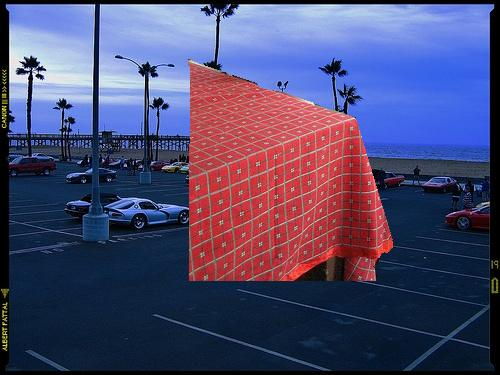tampered: (189, 59, 393, 281)
